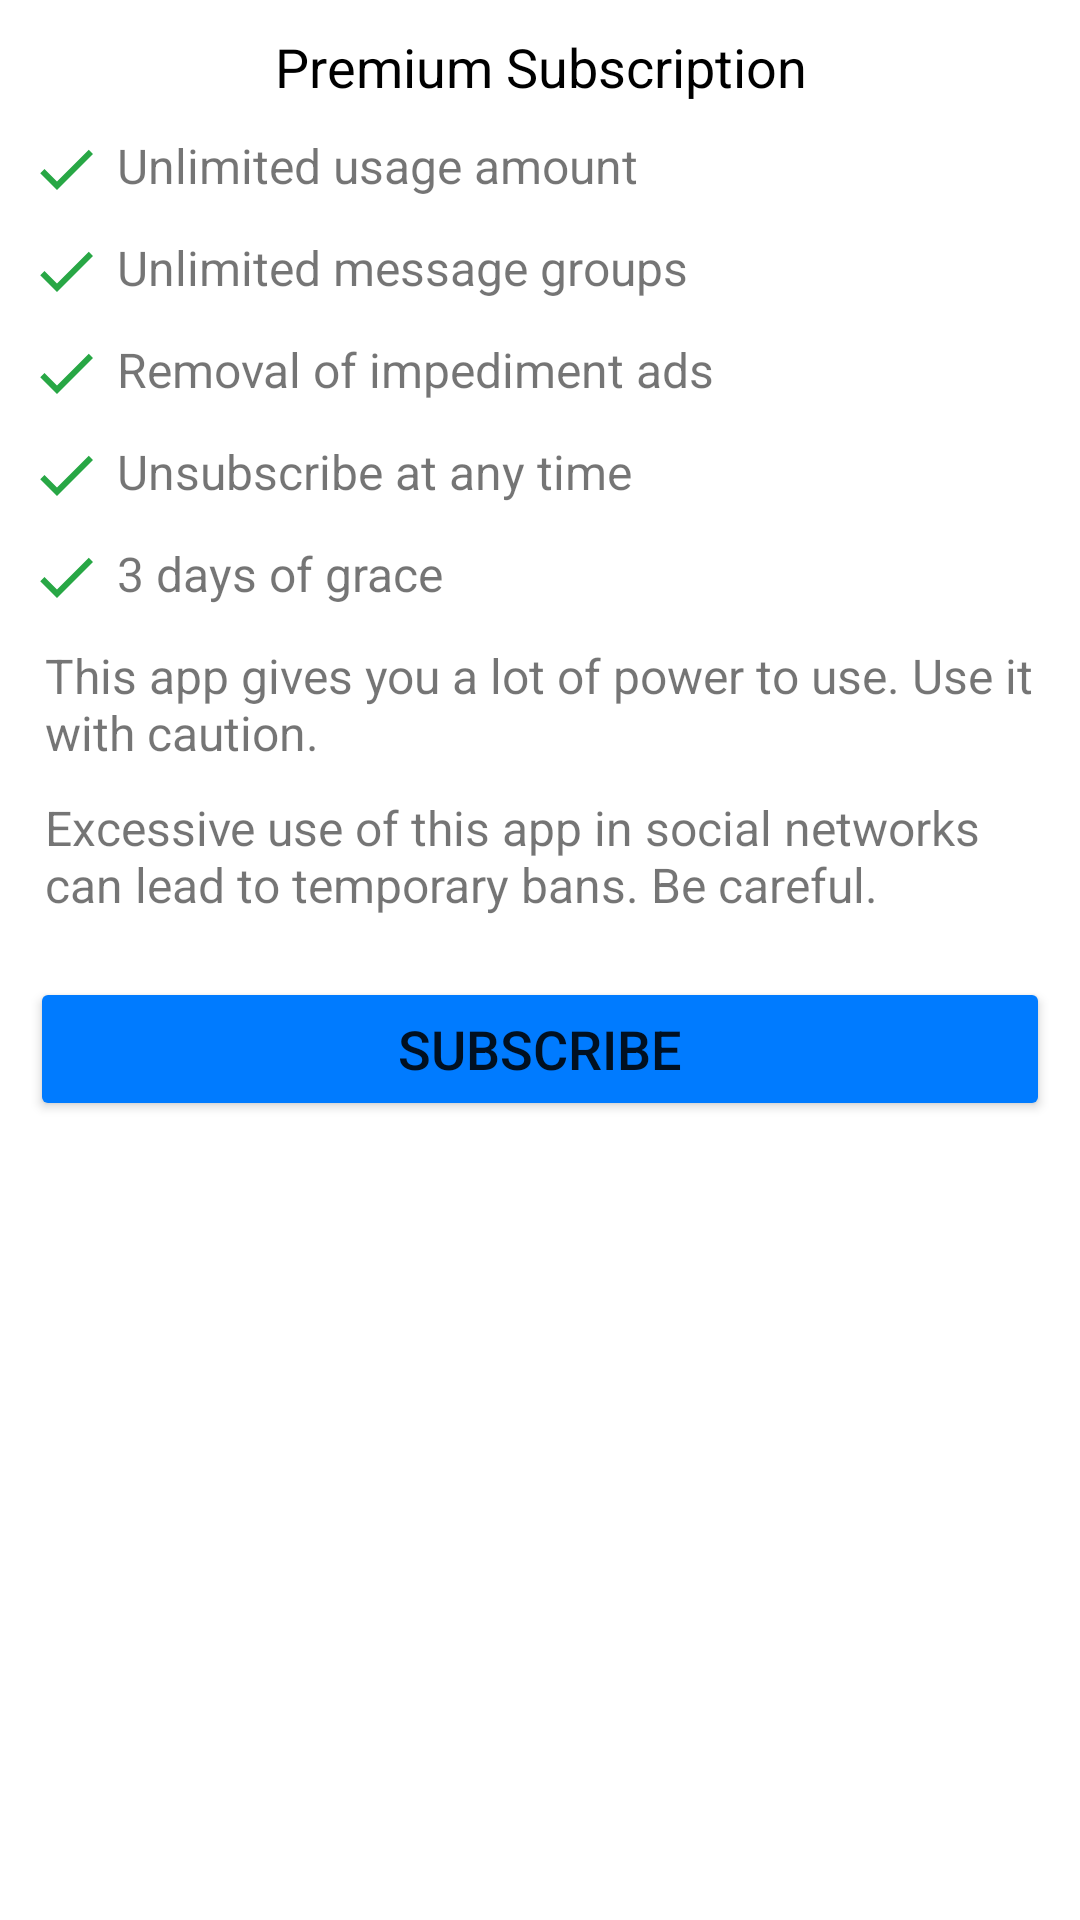

Where icons sit on this 1080 x 1920 app screen, as {"x1": x1, "y1": y1, "x2": x2, "y2": y2}:
check: {"x1": 40, "y1": 150, "x2": 93, "y2": 190}, {"x1": 40, "y1": 252, "x2": 93, "y2": 292}, {"x1": 40, "y1": 354, "x2": 93, "y2": 394}, {"x1": 40, "y1": 456, "x2": 93, "y2": 496}, {"x1": 40, "y1": 558, "x2": 93, "y2": 598}
